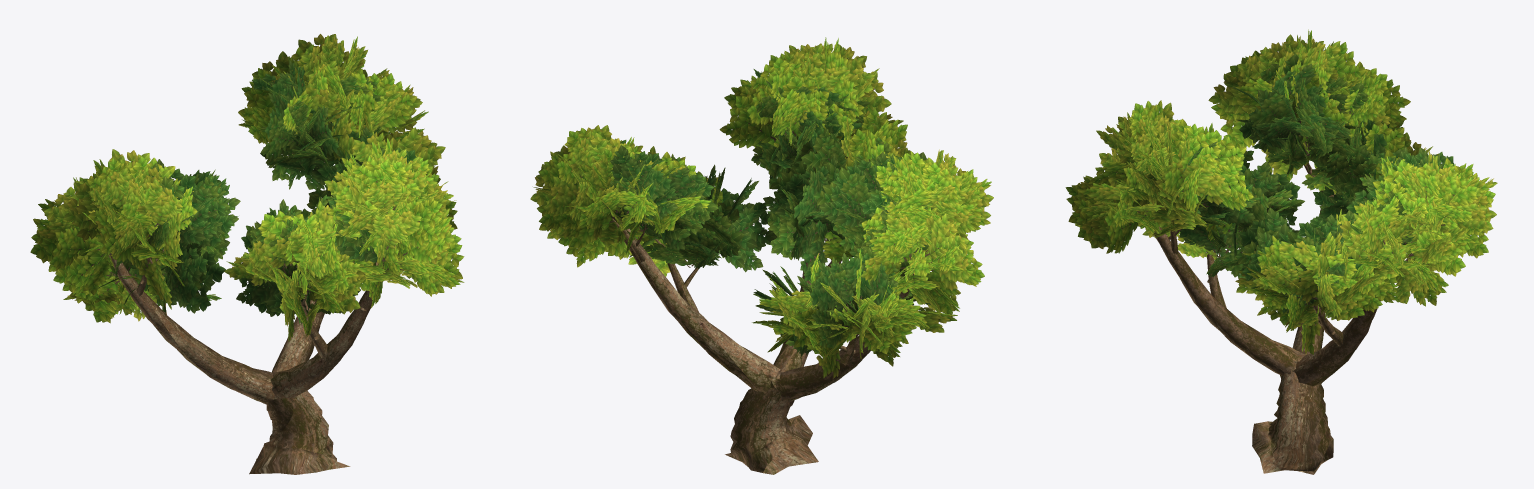
File: laubbaum-3.glb
3 views of the same model, side by side, from view 1: azimuth 30°, elevation 25°; view 2: azimuth 150°, elevation 25°; view 3: azimuth 270°, elevation 25° (orthographic).
Visible parts, largest first — view 1: laubbaum-3; view 2: laubbaum-3; view 3: laubbaum-3.
Boxes of the visible parts, x1,y1,x2,y2 form: laubbaum-3: (30,34,464,474); laubbaum-3: (530,37,993,474); laubbaum-3: (1065,29,1497,474).
Bounding box in the file's own units: 11.87 × 9.39 × 10.81.
2 materials, 2 textured.
